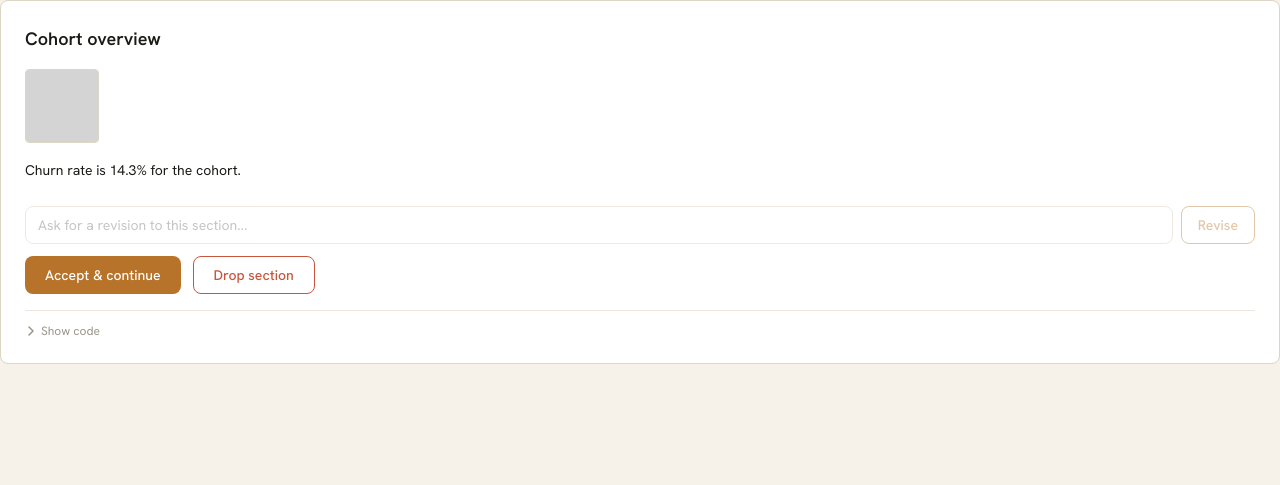
Test: SectionPane › test_code_toggle_expands_and_collapses — clicking toggle shows then hides code block
Click the button with test id "section-code-toggle" at (62, 331), box [25,323,100,339]
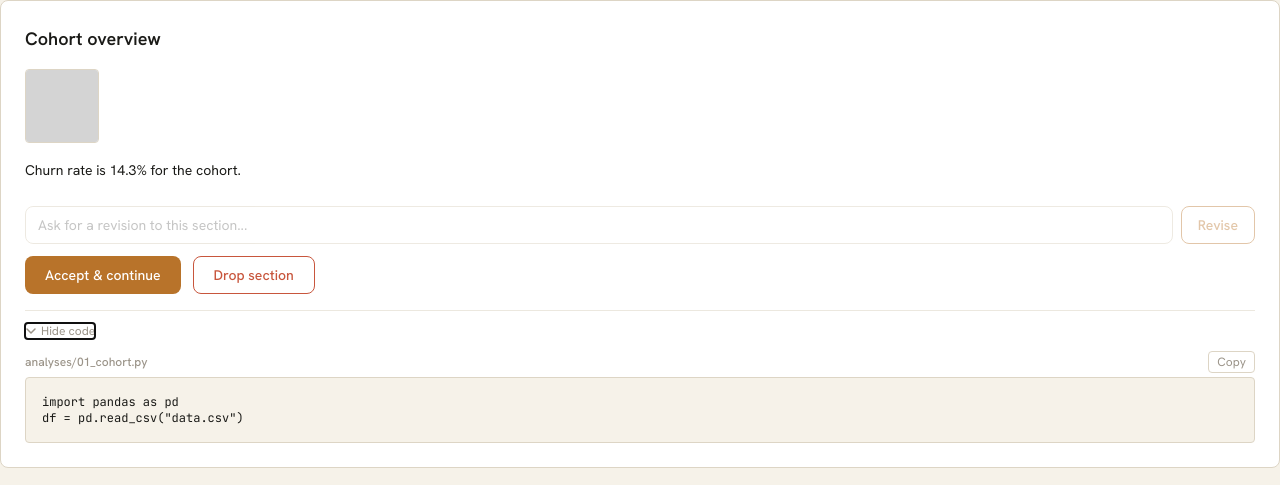
Now the element with test id "section-code" shows "import pandas", box [42,394,244,426]
Now the button with test id "section-code-toggle" reads "Hide code"
Click the button with test id "section-code-toggle" at (60, 331), box [25,323,95,339]
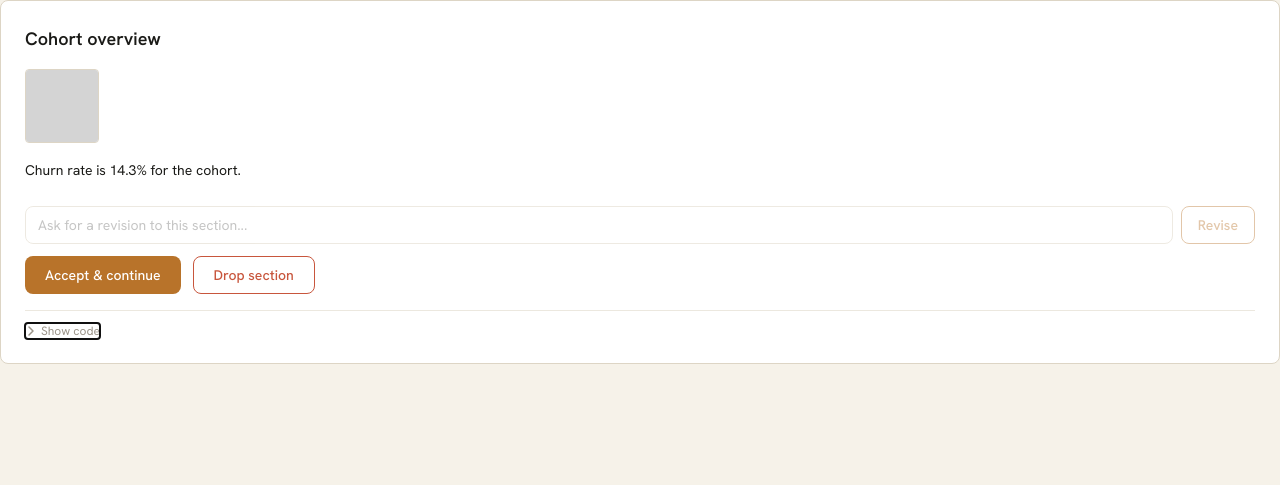
Now the element with test id "section-code" is gone
Now the button with test id "section-code-toggle" reads "Show code", box [25,323,100,339]
